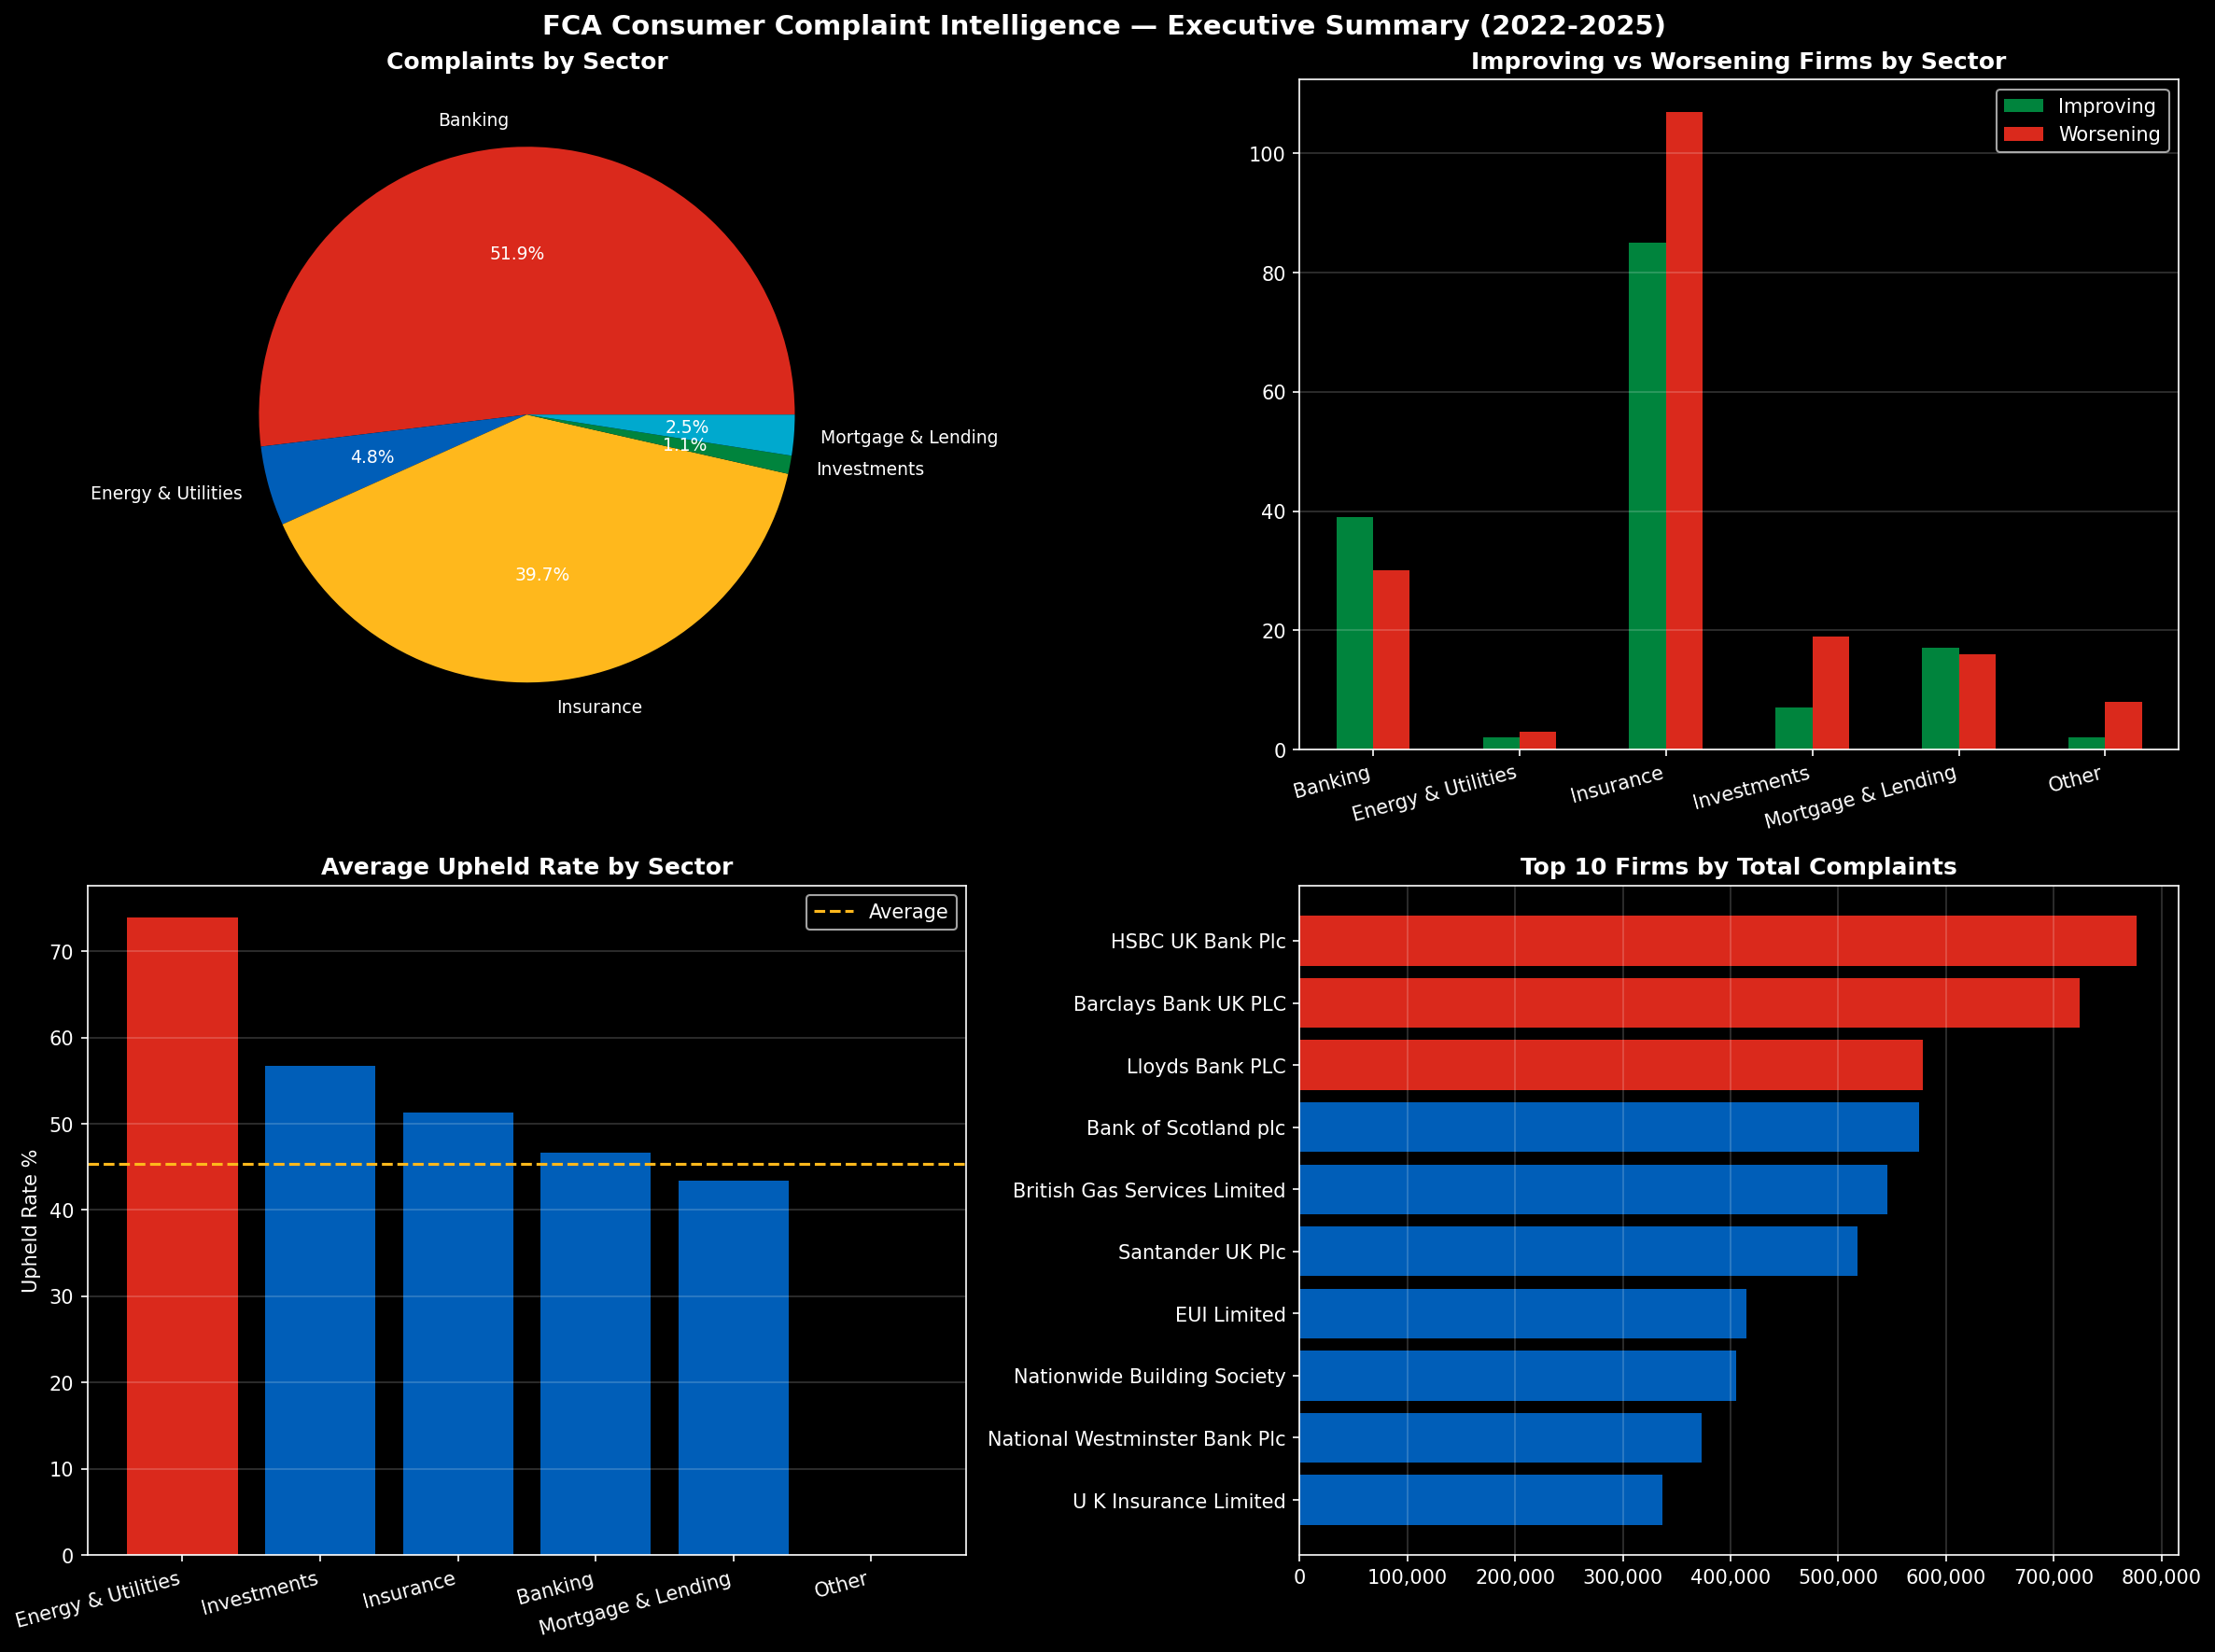

What the dashboard file says about the page in this screenshot:
{"tool":"powerbi","page":{"name":"Executive Summary","canvas":[1900,1080],"ordinal":0},"visuals":[{"type":"shape","box":[0,0,1896,120],"z":0},{"type":"textbox","box":[24,16,592,64],"z":1000},{"type":"textbox","box":[24,72,480,40],"z":2000},{"type":"slicer","fields":{"Values":["opened_clean.period"]},"box":[1528,32,176,64],"z":3000},{"type":"slicer","fields":{"Values":["opened_clean.sector"]},"box":[1336,32,176,64],"z":4000},{"type":"slicer","fields":{"Values":["opened_clean.Firm Name"]},"box":[1712,32,176,64],"z":5000},{"type":"cardVisual","fields":{"Data":["opened_clean.Total Complaints"]},"box":[72,144,264,216],"z":6000},{"type":"cardVisual","fields":{"Data":["opened_clean.Avg Upheld Rate"]},"box":[448,144,264,216],"z":7000},{"type":"cardVisual","fields":{"Data":["opened_clean.Upheld Rate Change"]},"box":[816,144,264,216],"z":8000},{"type":"cardVisual","fields":{"Data":["opened_clean.Total Firms"]},"box":[1192,144,264,216],"z":9000},{"type":"cardVisual","fields":{"Data":["opened_clean.Worsening Firms"]},"box":[1560,144,264,216],"z":10000},{"type":"shape","box":[72,144,264,12],"z":11000},{"type":"shape","box":[448,144,264,12],"z":12000},{"type":"shape","box":[816,144,264,12],"z":13000},{"type":"shape","box":[1192,144,264,12],"z":14000},{"type":"shape","box":[1560,144,264,12],"z":15000},{"type":"lineChart","title":"Industry Upheld Rate Trend (2022–2025)","fields":{"Category":["upheld_clean.period_date.Variation.Date Hierarchy.Year"],"Y":["opened_clean.Avg Upheld Rate"]},"box":[80,400,1744,256],"z":16000},{"type":"shape","box":[80,688,1744,88],"z":17000,"group":"g1"},{"type":"clusteredBarChart","title":"Avg Upheld Rate by Sector","fields":{"Category":["opened_clean.sector"],"Y":["opened_clean.Avg Upheld Rate"]},"box":[80,800,816,256],"z":17000},{"type":"textbox","box":[96,696,1728,80],"z":18000,"group":"g1"},{"type":"clusteredBarChart","title":"Top 10 Firms by Total Complaints","fields":{"Category":["upheld_clean.Firm Name"],"Y":["opened_clean.Total Complaints"]},"box":[944,800,880,256],"z":18000},{"type":"group","id":"g1","title":"Group 1","box":[80,688,1744,80],"z":19000}]}

Visuals, with their boxes on the page's 1900x1080 design canvas (x1, y1, x2, y2). These are canvas units, not pixel positions in the 2215x1652 screenshot, which may show the page scaled, cropped or inside an application window:
shape: (0,0,1896,120)
textbox: (24,16,616,80)
textbox: (24,72,504,112)
slicer - opened_clean.period: (1528,32,1704,96)
slicer - opened_clean.sector: (1336,32,1512,96)
slicer - opened_clean.Firm Name: (1712,32,1888,96)
cardVisual - opened_clean.Total Complaints: (72,144,336,360)
cardVisual - opened_clean.Avg Upheld Rate: (448,144,712,360)
cardVisual - opened_clean.Upheld Rate Change: (816,144,1080,360)
cardVisual - opened_clean.Total Firms: (1192,144,1456,360)
cardVisual - opened_clean.Worsening Firms: (1560,144,1824,360)
shape: (72,144,336,156)
shape: (448,144,712,156)
shape: (816,144,1080,156)
shape: (1192,144,1456,156)
shape: (1560,144,1824,156)
"Industry Upheld Rate Trend (2022–2025)" lineChart: (80,400,1824,656)
shape: (80,688,1824,776)
"Avg Upheld Rate by Sector" clusteredBarChart: (80,800,896,1056)
textbox: (96,696,1824,776)
"Top 10 Firms by Total Complaints" clusteredBarChart: (944,800,1824,1056)
"Group 1" group: (80,688,1824,768)
